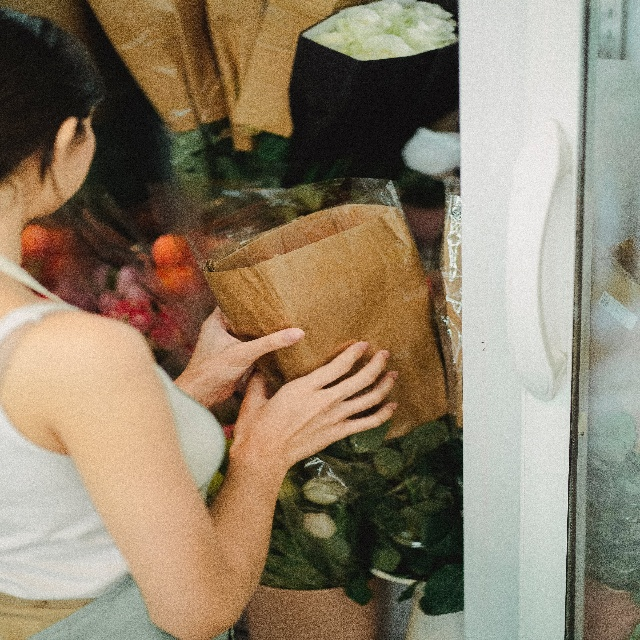Sin_guantes: (233, 339, 402, 458), (195, 306, 304, 384)
